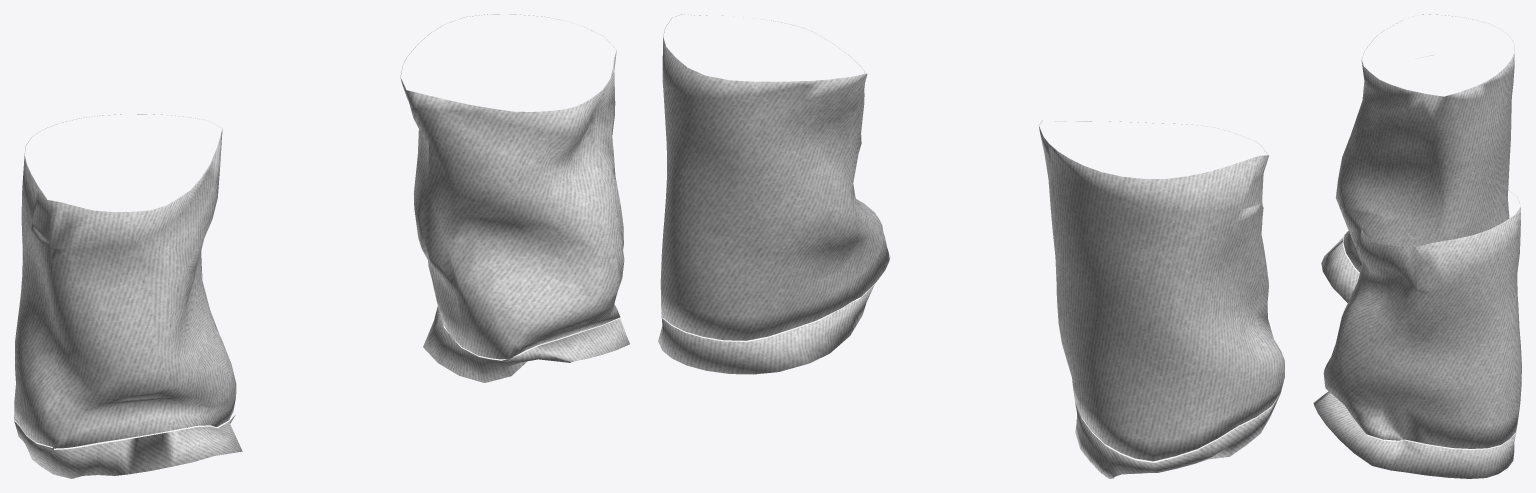
The model's file is Decor_Under.glb.
The picture shows the model from 3 angles, left to right: view 1: azimuth 30°, elevation 25°; view 2: azimuth 150°, elevation 25°; view 3: azimuth 270°, elevation 25°; orthographic projection. The views are drawn at different scales.
Parts seen in each view (by area): view 1: Decor_Under1; view 2: Decor_Under1; view 3: Decor_Under1.
Part boxes in pixels (left/top/right/bottom): Decor_Under1: left=14, top=14, right=629, bottom=478; Decor_Under1: left=658, top=14, right=1284, bottom=478; Decor_Under1: left=1313, top=14, right=1521, bottom=478.
Size of the model in its own units: 0.7501 by 0.3771 by 0.2798.
1 material, 1 textured.
